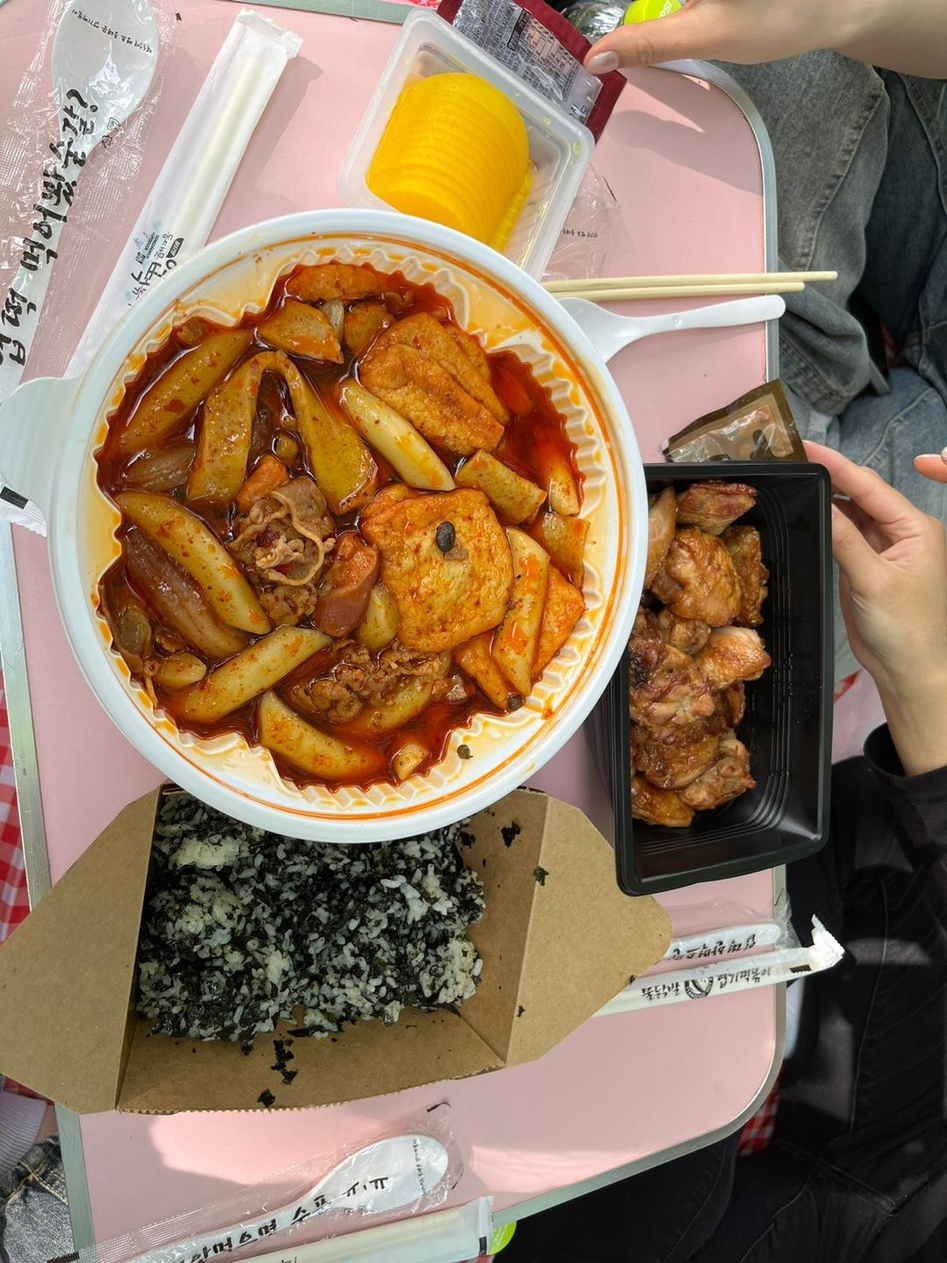Lunch Box: (0, 211, 645, 840), (0, 786, 671, 1113), (602, 462, 833, 892), (337, 9, 593, 279)
